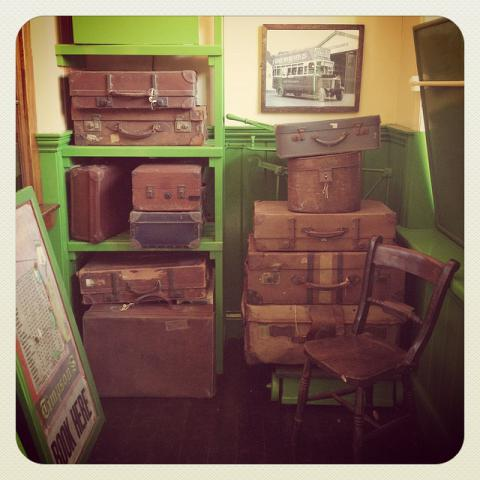bus: (272, 47, 345, 101)
